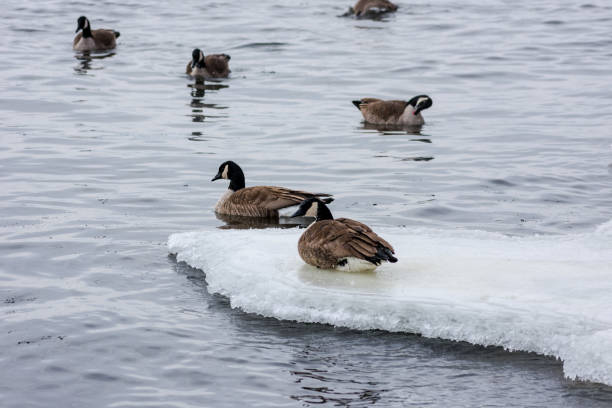goose: (290, 193, 400, 275), (207, 158, 335, 216), (346, 93, 434, 133), (69, 12, 122, 57), (183, 46, 235, 81)
